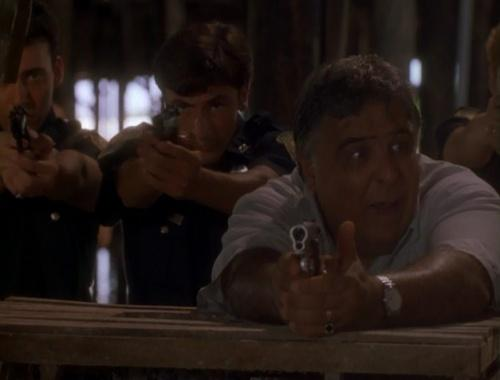Gun: (290, 222, 330, 278), (152, 109, 178, 145), (11, 110, 30, 157)
